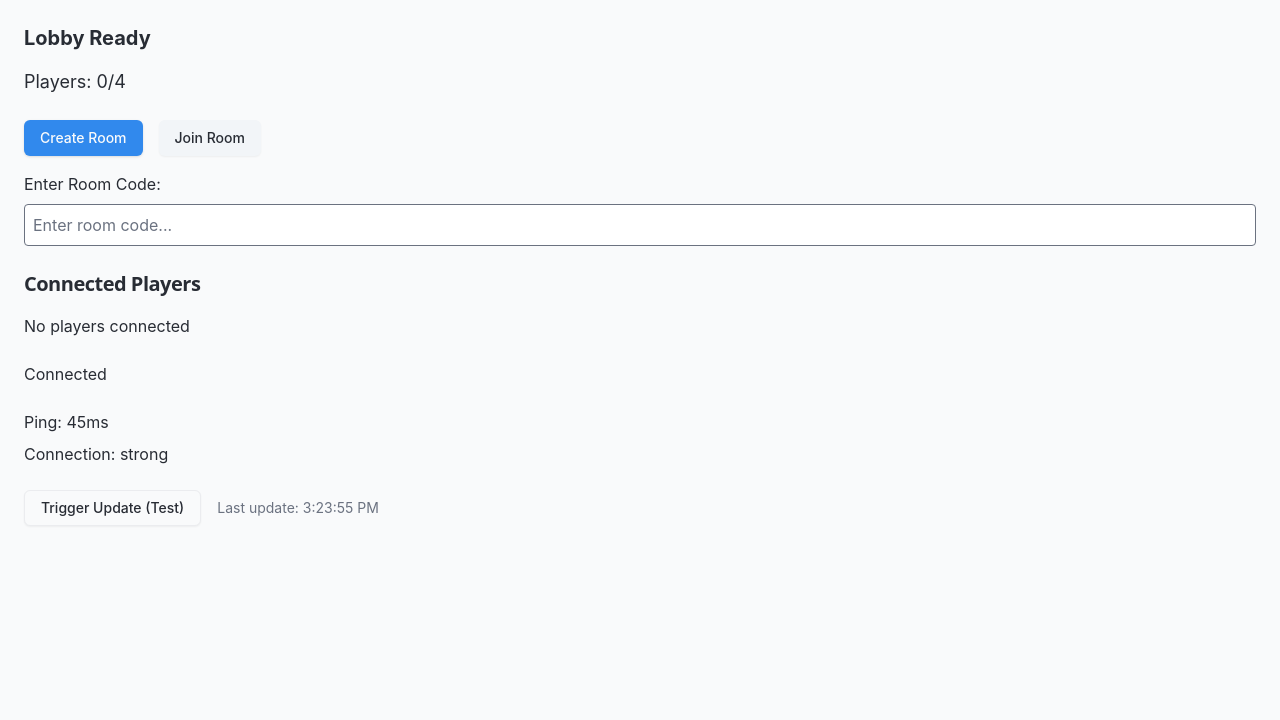
Test case: Multiplayer Integration Tests (TDD CYCLE 4 GREEN Phase) › Performance et Latence › should update ping dynamically
# Déclencher mise à jour
Click the button with test id "trigger-update-button" at coordinates (113, 508), box x1=24 y1=490 x2=201 y2=526
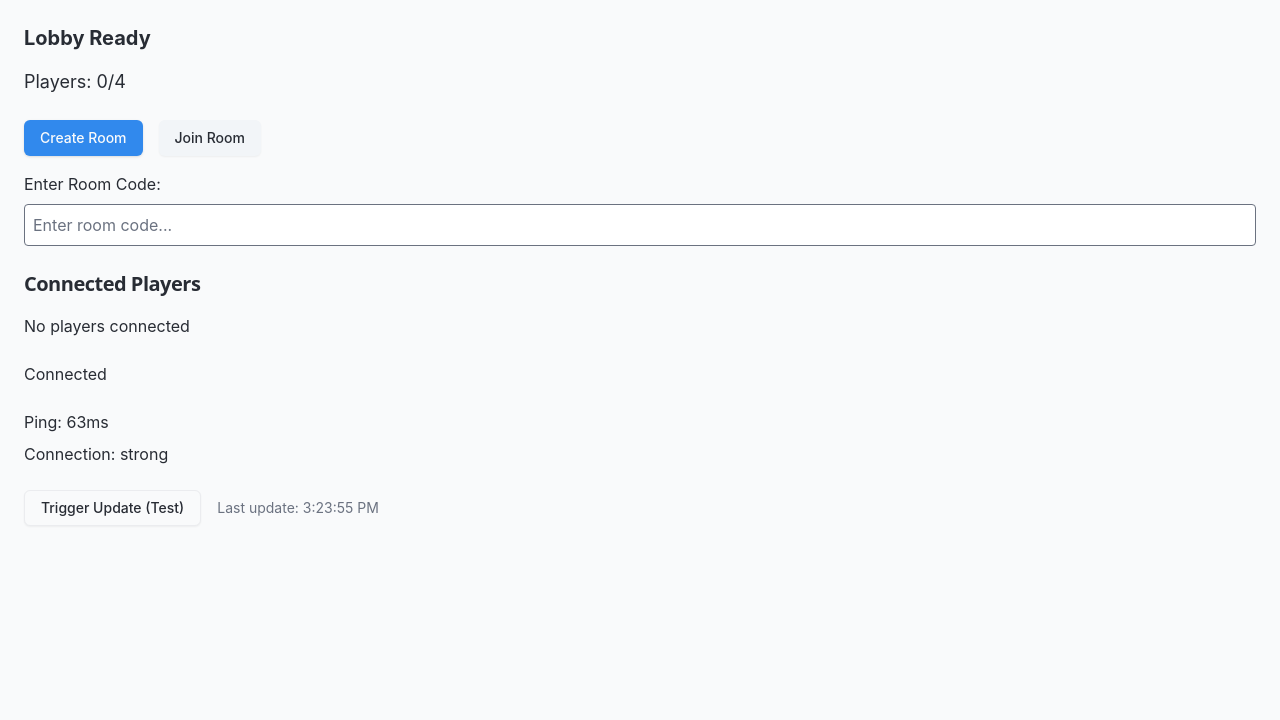
Now the text with test id "ping-display" no longer shows "Ping: 45ms"
